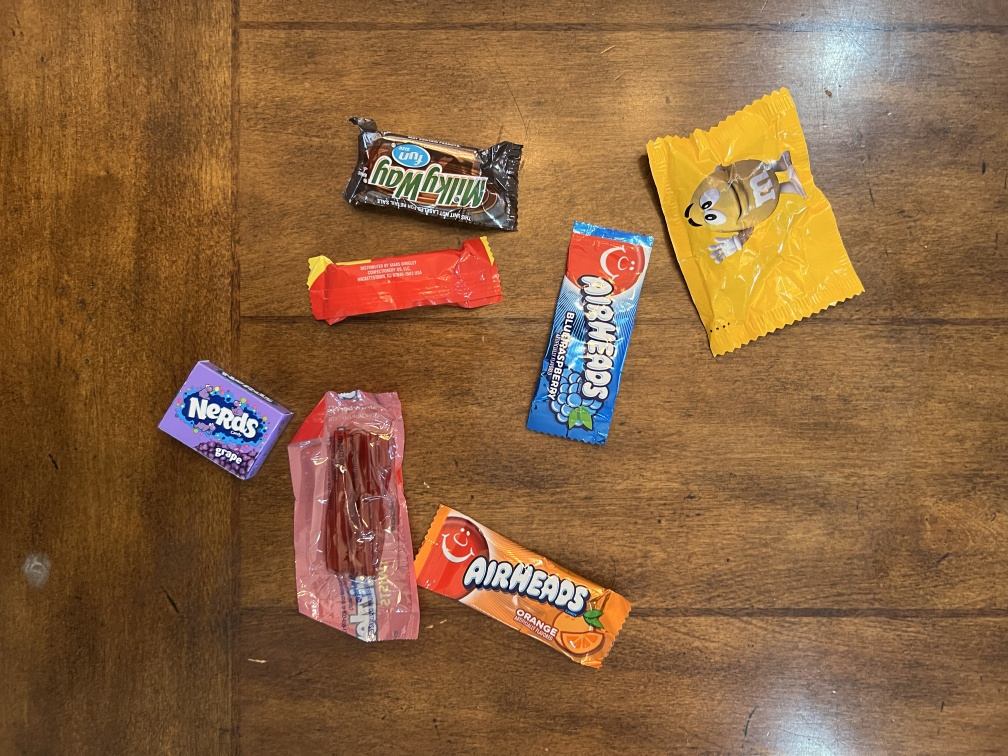MMs_regular: (634, 101, 895, 342)
airheads: (422, 483, 639, 686), (529, 213, 644, 468)
milky_way: (337, 107, 530, 231)
nerds: (145, 345, 290, 479)
starbust: (285, 234, 515, 338)
twizzlers: (284, 376, 428, 648)
